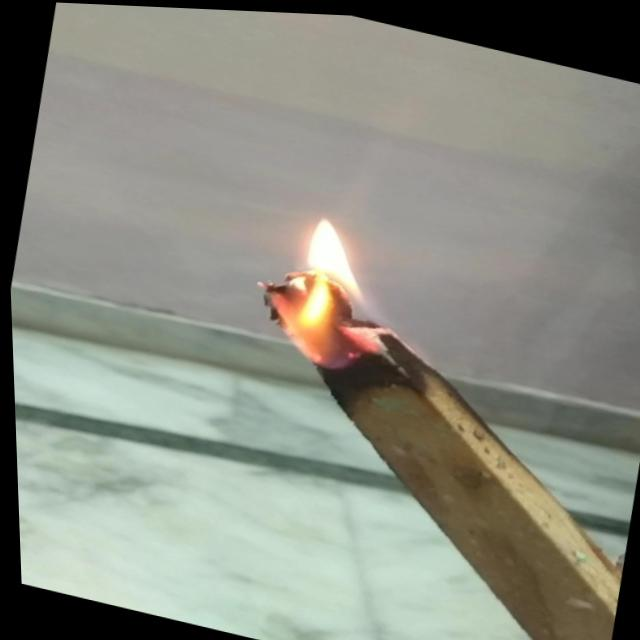fire: (235, 194, 415, 388)
